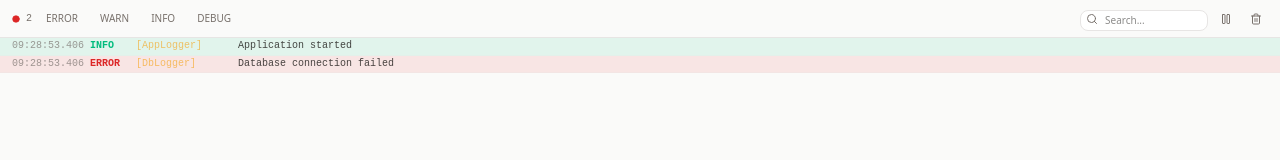
LiveLogViewer › filters logs by search query
The width and height of the screenshot is (1280, 160).
Expected: the text "Application started" is shown, [238,40,352,52]
Expected: the text "Database connection failed" is shown, [238,58,394,70]
// Search for "Database"
Type "Database" into the field with test id "log-search". click: {"x": 1144, "y": 20}
box: [1080,10,1208,31]
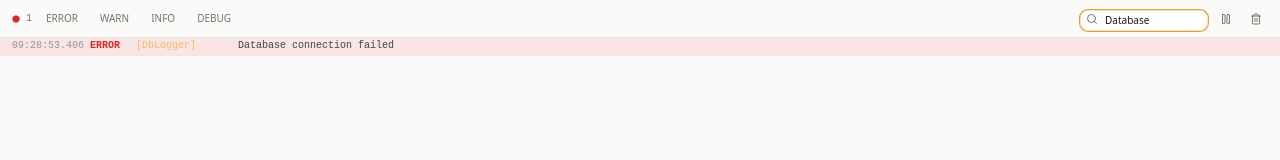
Expected: the text "Application started" is gone
Expected: the text "Database connection failed" is shown, [238,40,394,52]
